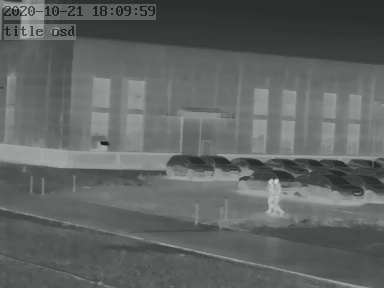person: (267, 177, 283, 214)
vehicle: (302, 173, 364, 202), (237, 171, 301, 191), (165, 153, 212, 178), (204, 154, 242, 177), (357, 173, 384, 204), (261, 155, 301, 171), (235, 154, 272, 171), (347, 156, 379, 170), (318, 157, 347, 170), (296, 156, 324, 169)
